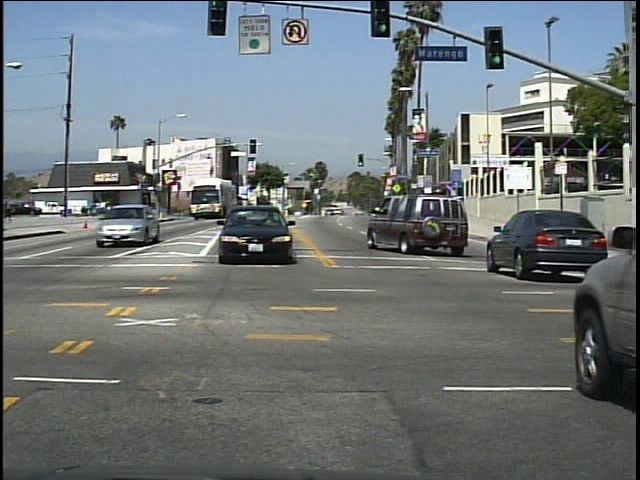person: (4, 198, 19, 227)
